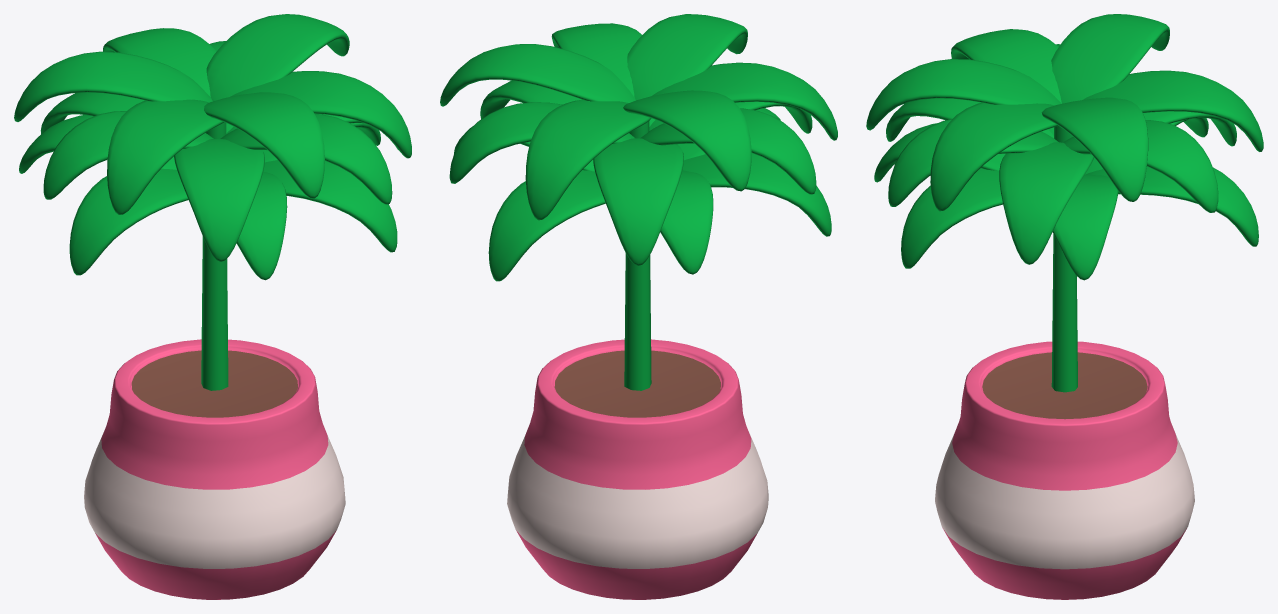
Rendered from Town_19_Plant_1.glb.
The picture shows the model from 3 angles, left to right: view 1: azimuth 30°, elevation 25°; view 2: azimuth 150°, elevation 25°; view 3: azimuth 270°, elevation 25°; orthographic projection.
Visible parts, largest first — view 1: Town_19_Plant_1; view 2: Town_19_Plant_1; view 3: Town_19_Plant_1.
Part boxes in pixels (x1,y1,x2,y2): Town_19_Plant_1: (14, 14, 411, 599); Town_19_Plant_1: (440, 14, 837, 599); Town_19_Plant_1: (866, 14, 1263, 599).
Bounding box in the file's own units: 1.18 × 1.61 × 1.18.
Materials: 1 (1 with a texture image).
